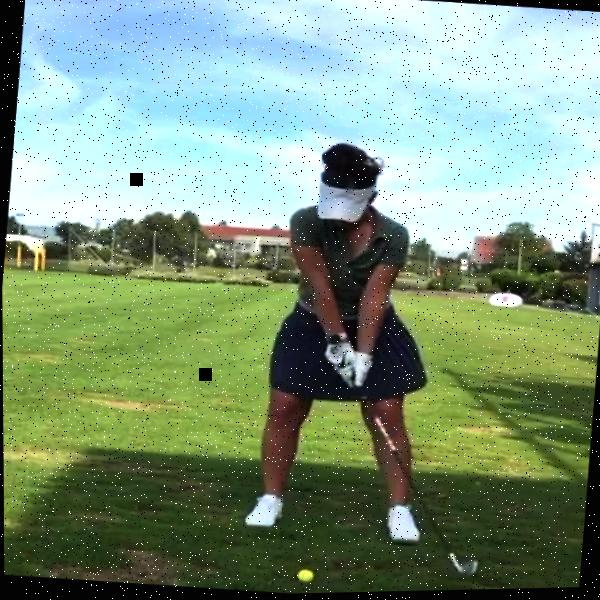ClubHead: (456, 561, 477, 582)
GolfBall: (293, 570, 314, 584)
